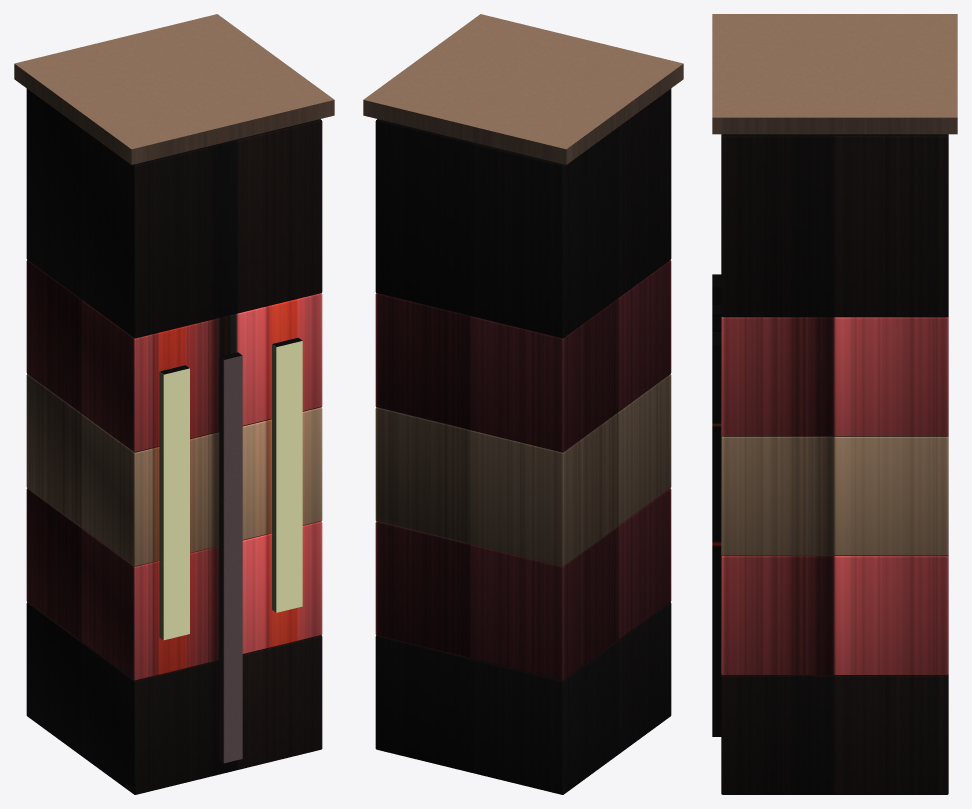
File: shop_kik.glb
3 renders of one model, left to right at view 1: azimuth 30°, elevation 25°; view 2: azimuth 150°, elevation 25°; view 3: azimuth 270°, elevation 25°, orthographic. The views are drawn at different scales.
Parts seen in each view (by area): view 1: band4, band0, roof, band3, band1, band2, door, winR, winL; view 2: band4, band1, band3, band0, band2, roof; view 3: band4, roof, band0, band1, band2, band3, winR, door.
Part boxes in pixels (x1,y1,x2,y2): band4: (26,88,322,338); band0: (26,602,322,794); roof: (14,14,334,164); band3: (26,260,322,452); band1: (26,488,322,680); band2: (26,374,322,566); door: (219,352,242,763); winR: (272,337,302,612); winL: (159,365,189,640); band4: (375,88,671,338); band1: (375,488,671,680); band3: (375,260,671,452); band0: (375,602,671,794); band2: (375,374,671,566); roof: (363,14,683,164); band4: (721,134,948,317); roof: (712,14,957,134); band0: (721,675,948,794); band1: (721,555,948,675); band2: (721,436,948,555); band3: (721,316,948,436); winR: (712,332,721,623); door: (712,305,721,736).
Size of the model in its own units: 1.08 by 3.31 by 1.08.
6 materials, 6 textured.
